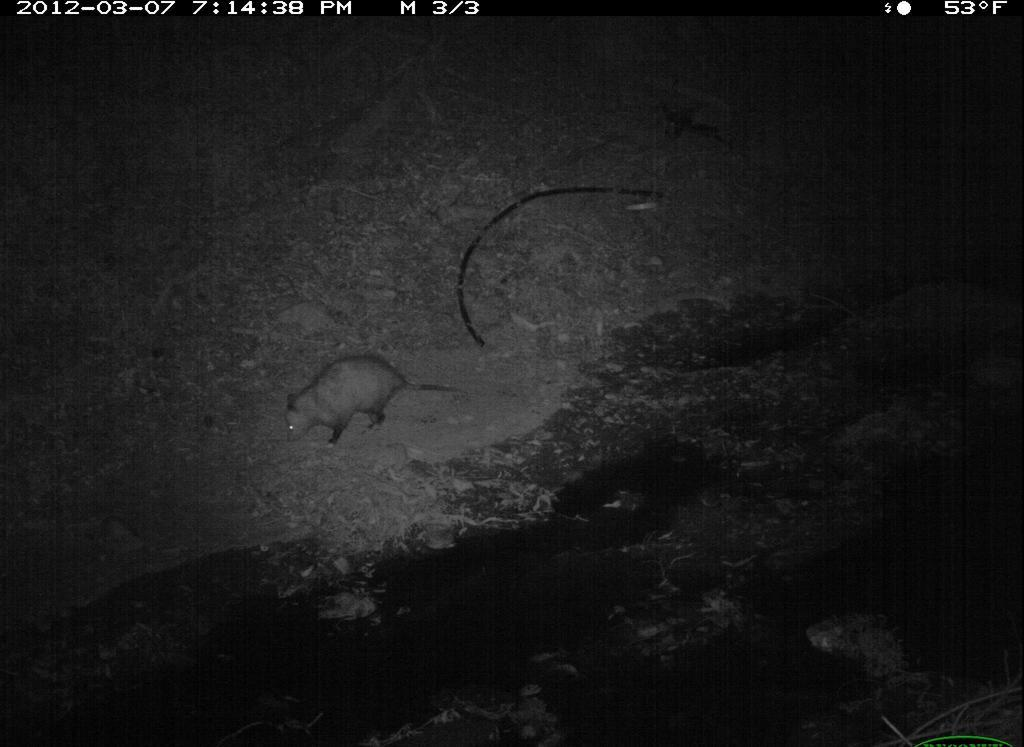opossum: (278, 350, 468, 459)
